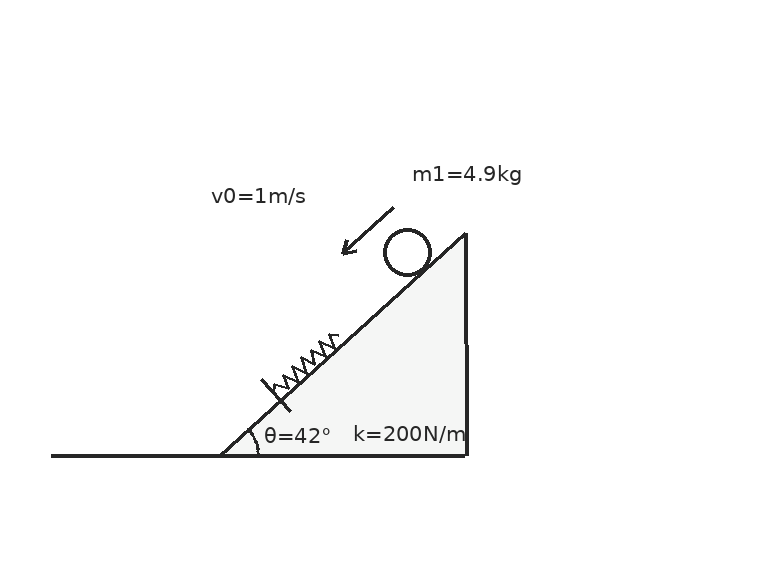ball: (381, 226, 433, 278)
ramp: (216, 230, 467, 457)
spring: (272, 332, 340, 395)
